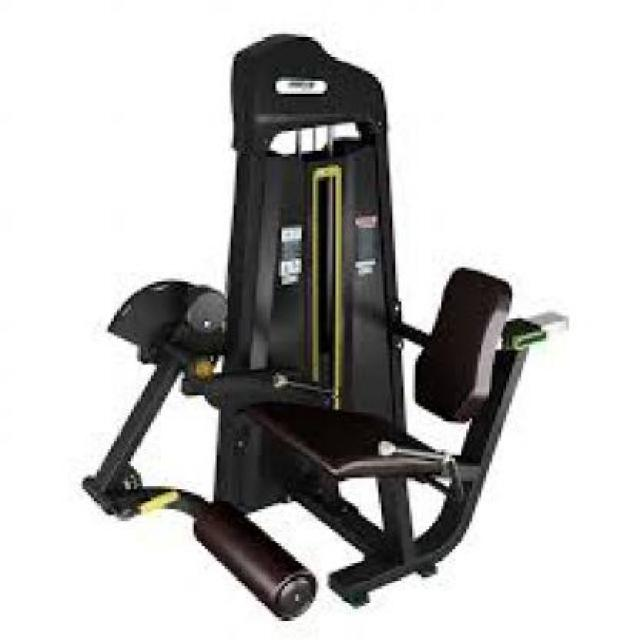leg extension: (63, 18, 582, 624)
